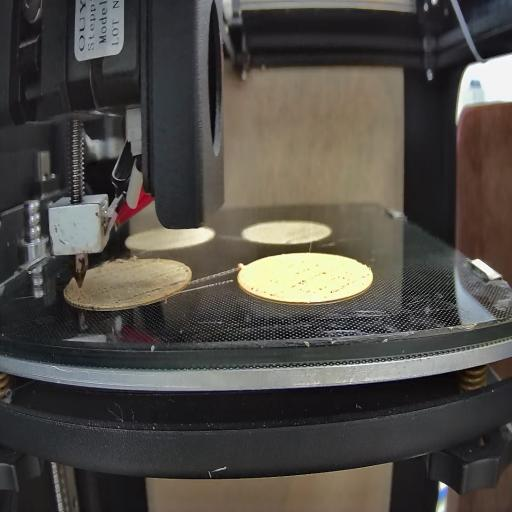under_extrusion: (291, 266, 371, 300), (116, 278, 189, 310), (63, 281, 99, 313), (250, 276, 278, 304)
